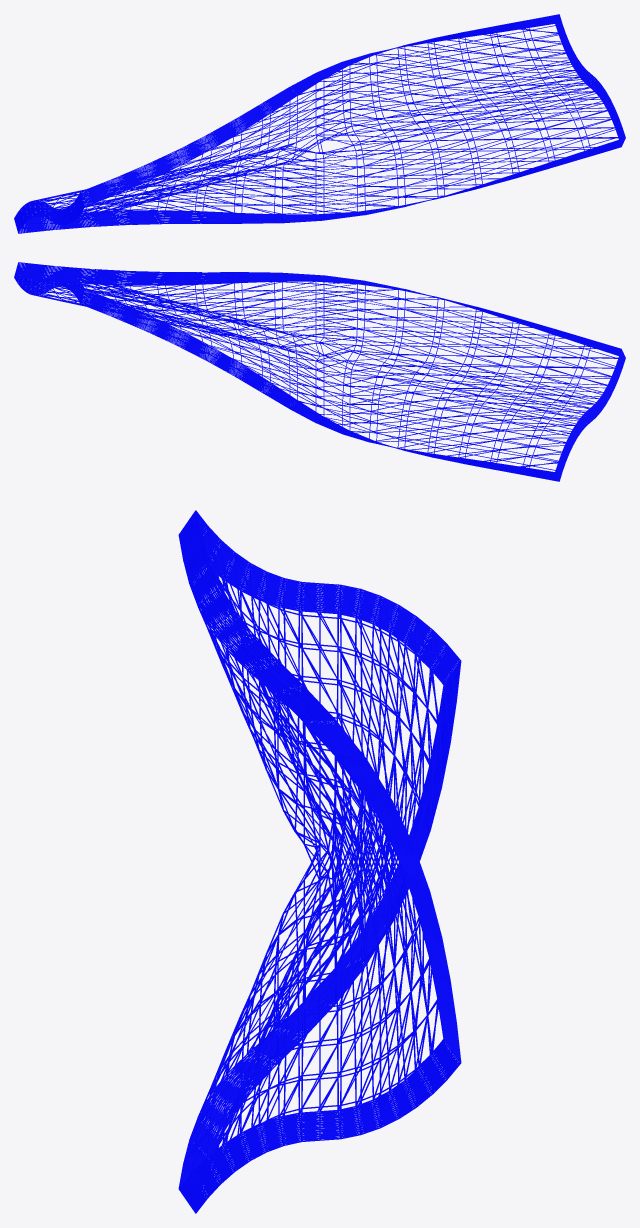
The model's file is TurnVolumed.glb.
3 renders of one model, top to bottom at view 1: azimuth 30°, elevation 25°; view 2: azimuth 150°, elevation 25°; view 3: azimuth 270°, elevation 25°, orthographic. The views are drawn at different scales.
Size of the model in its own units: 1 by 0.2513 by 0.2265.
